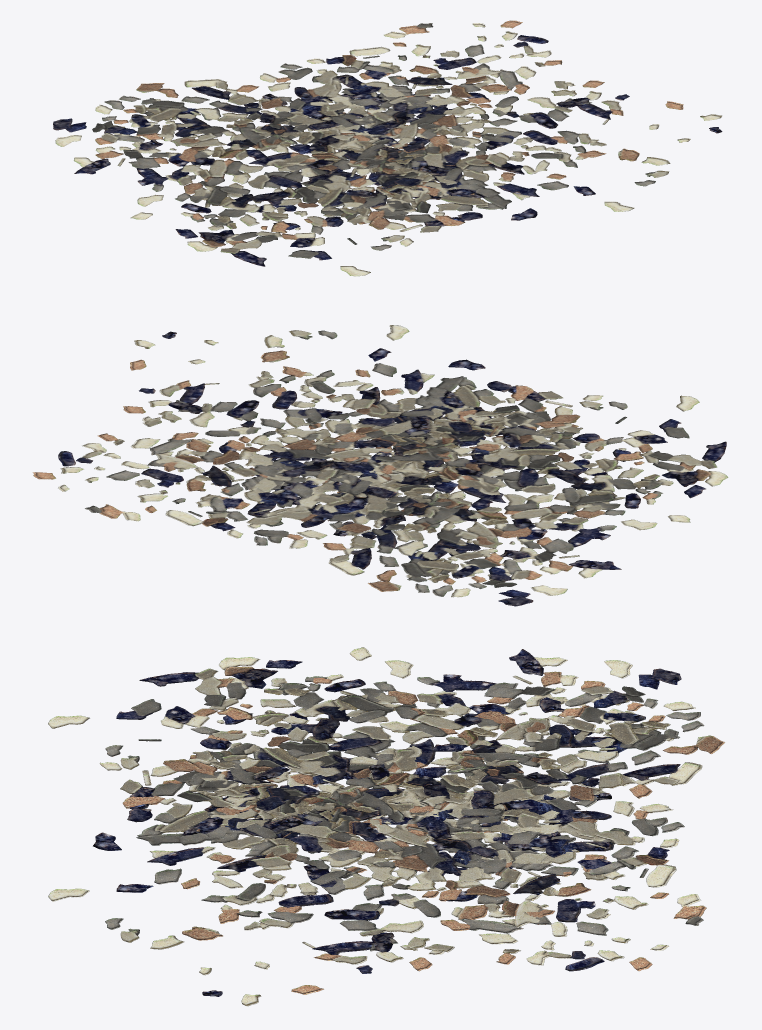
Rendered from Garbage.FBX.
3 renders of one model, top to bottom at view 1: azimuth 30°, elevation 25°; view 2: azimuth 150°, elevation 25°; view 3: azimuth 270°, elevation 25°, orthographic. The views are drawn at different scales.
Parts seen in each view (by area): view 1: Garbage; view 2: Garbage; view 3: Garbage.
Part boxes in pixels (box(x1,y1,x2,y2)): Garbage: box(53, 20, 722, 276); Garbage: box(32, 325, 728, 606); Garbage: box(48, 647, 724, 1006).
Bounding box in the file's own units: 12.62 × 0.0681 × 10.49.
